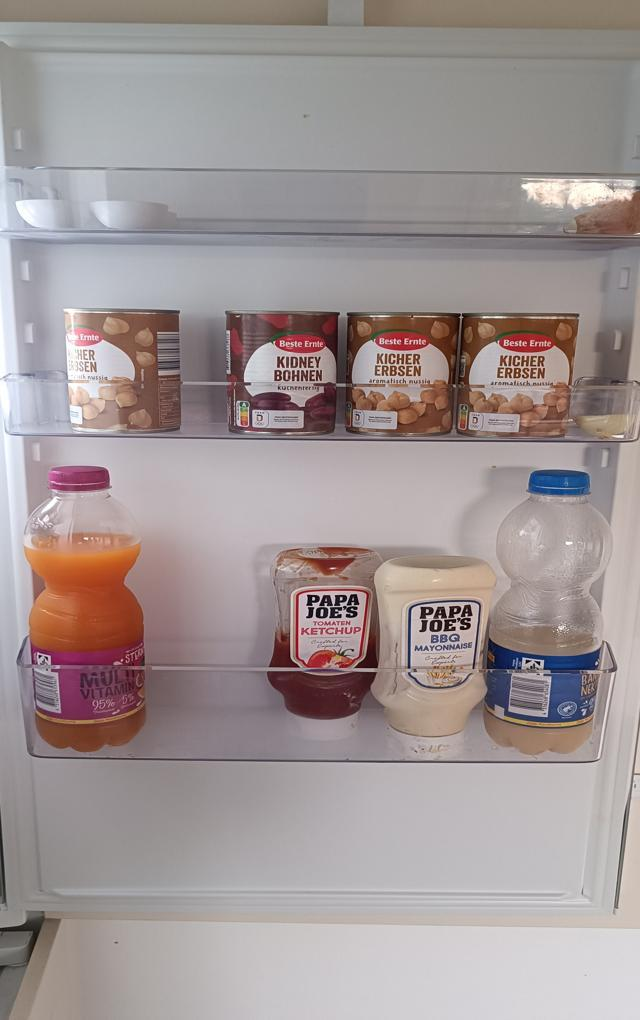bananajuice: (488, 466, 608, 757)
chickpeas: (62, 308, 181, 431), (345, 311, 457, 438), (463, 313, 570, 441)
kidneybeans: (224, 307, 337, 436)
mayoniasie: (370, 553, 496, 752)
orangejuice: (23, 464, 150, 753)
tomatoketchup: (267, 550, 381, 737)
